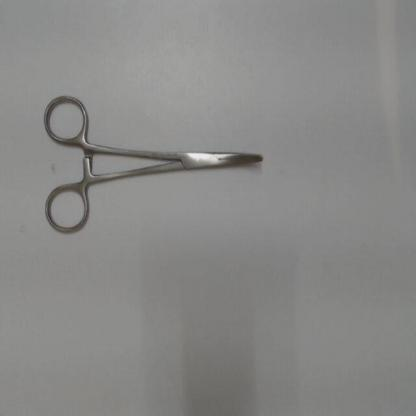Crile Artery Forceps: (41, 88, 267, 236)
